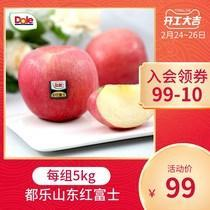apple: (17, 46, 98, 125), (86, 28, 149, 86), (88, 83, 154, 127)
